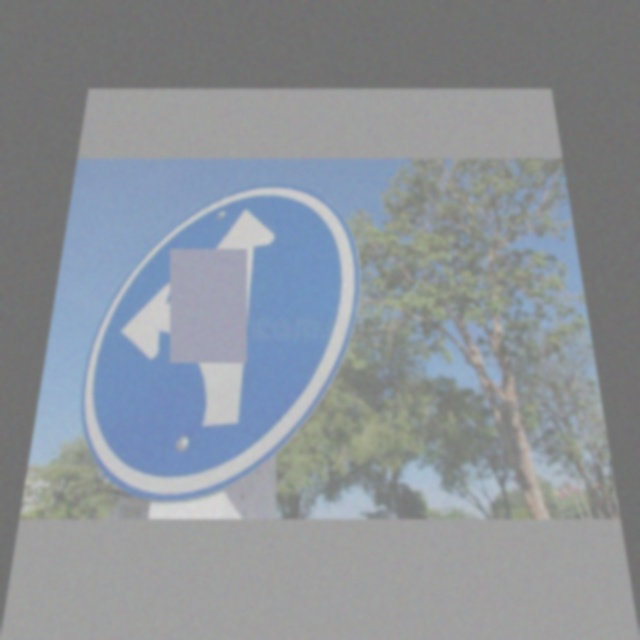Compulsory_Ahead_or_Turn_Left: (71, 184, 357, 484)
